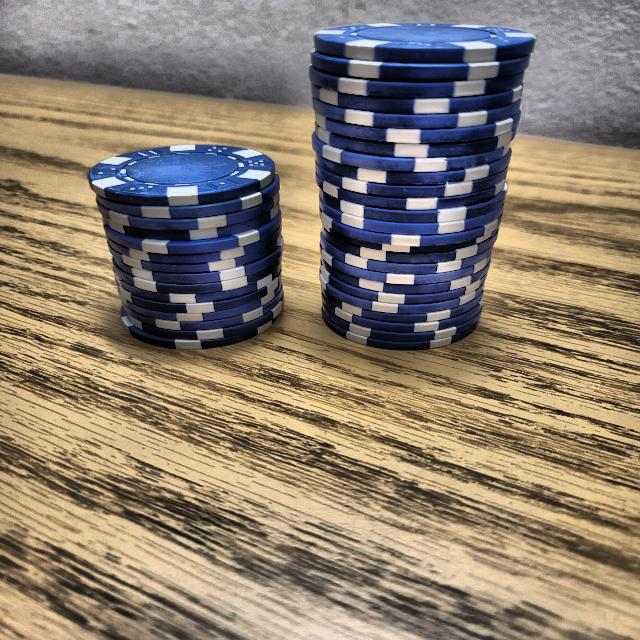Chip: (306, 20, 545, 372), (77, 116, 290, 365)
